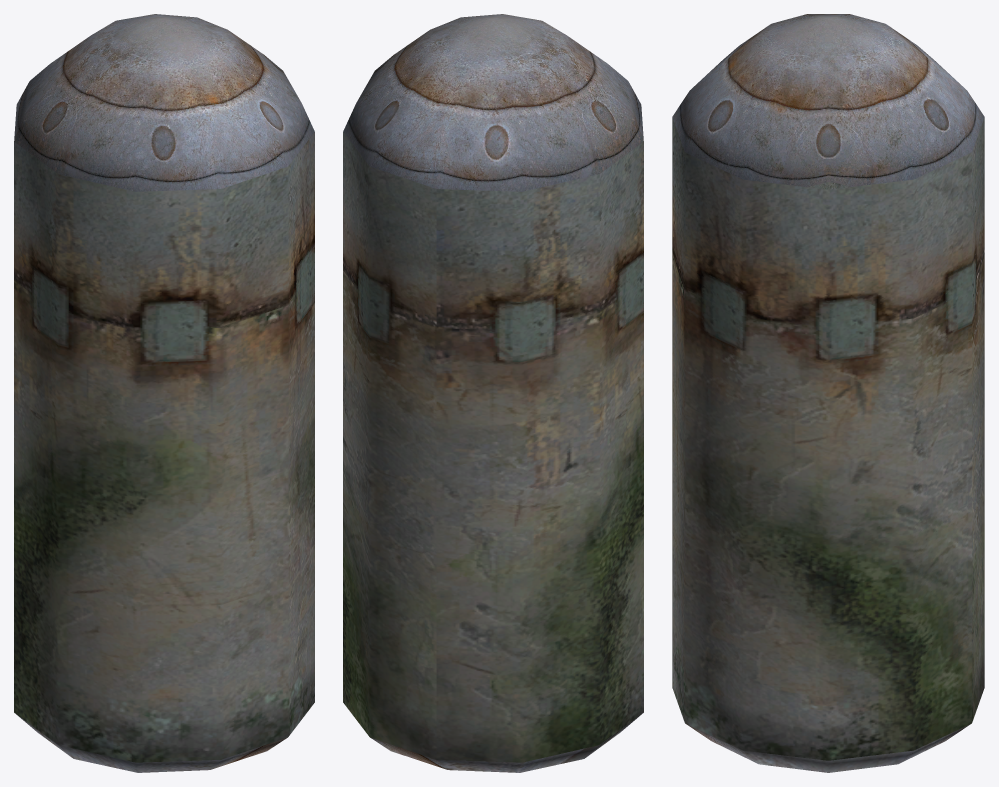
The model's file is Canister.obj.
The picture shows the model from 3 angles, left to right: view 1: azimuth 30°, elevation 25°; view 2: azimuth 150°, elevation 25°; view 3: azimuth 270°, elevation 25°; orthographic projection.
Visible parts, largest first — view 1: CanisterSolid1; view 2: CanisterSolid1; view 3: CanisterSolid1.
Part boxes in pixels (left/top/right/bottom): CanisterSolid1: left=14, top=14, right=314, bottom=772; CanisterSolid1: left=343, top=14, right=643, bottom=772; CanisterSolid1: left=672, top=14, right=984, bottom=772.
Bounding box in the file's own units: 4.6 × 12 × 4.85.
